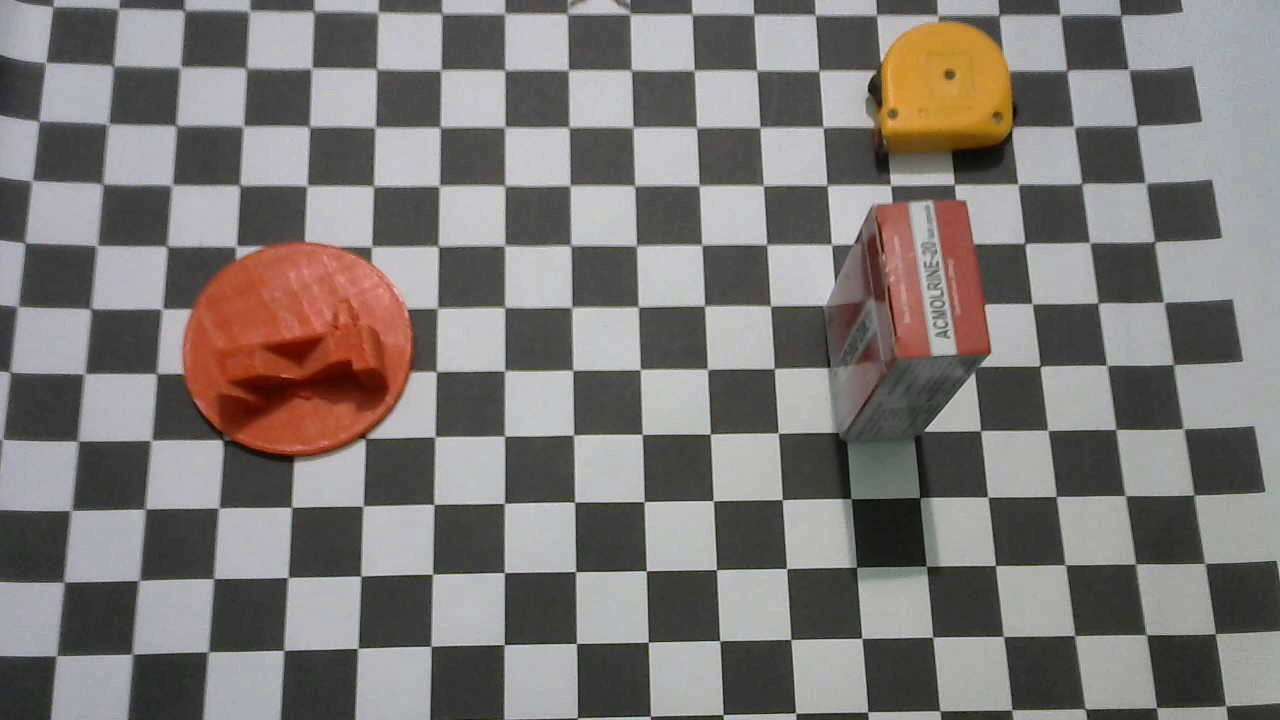blue: (874, 18, 1018, 158)
green: (181, 242, 413, 458)
red: (831, 196, 992, 439)
